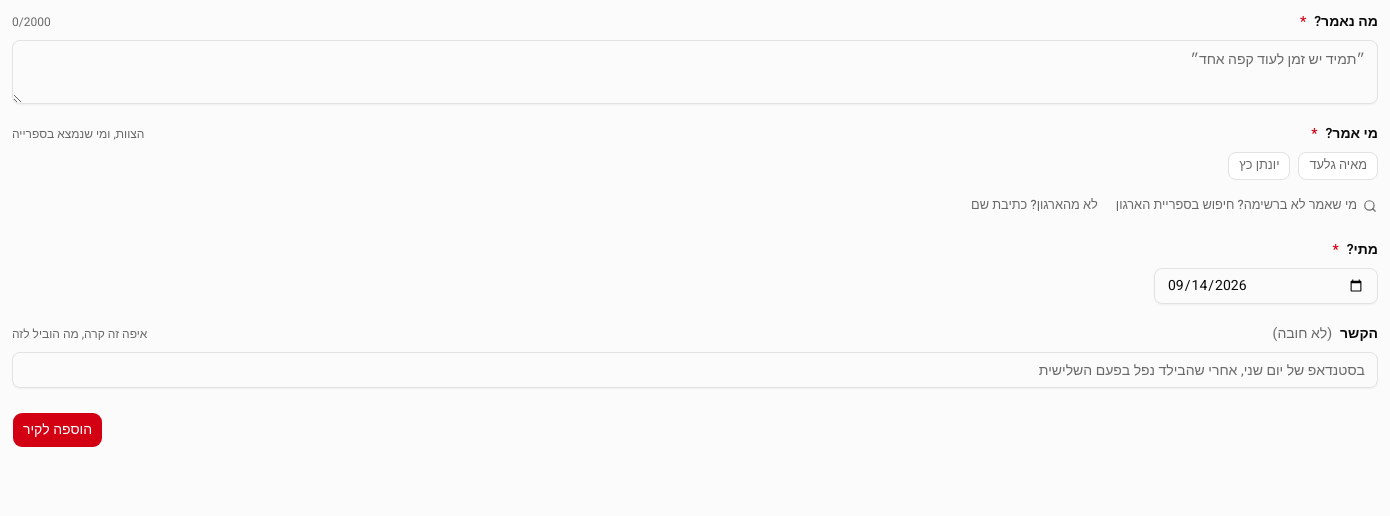
it: QuoteForm — creating › clears a field's error as soon as it is edited
Click the button "הוספה לקיר" at x=58, y=430, box [12,412,103,448]
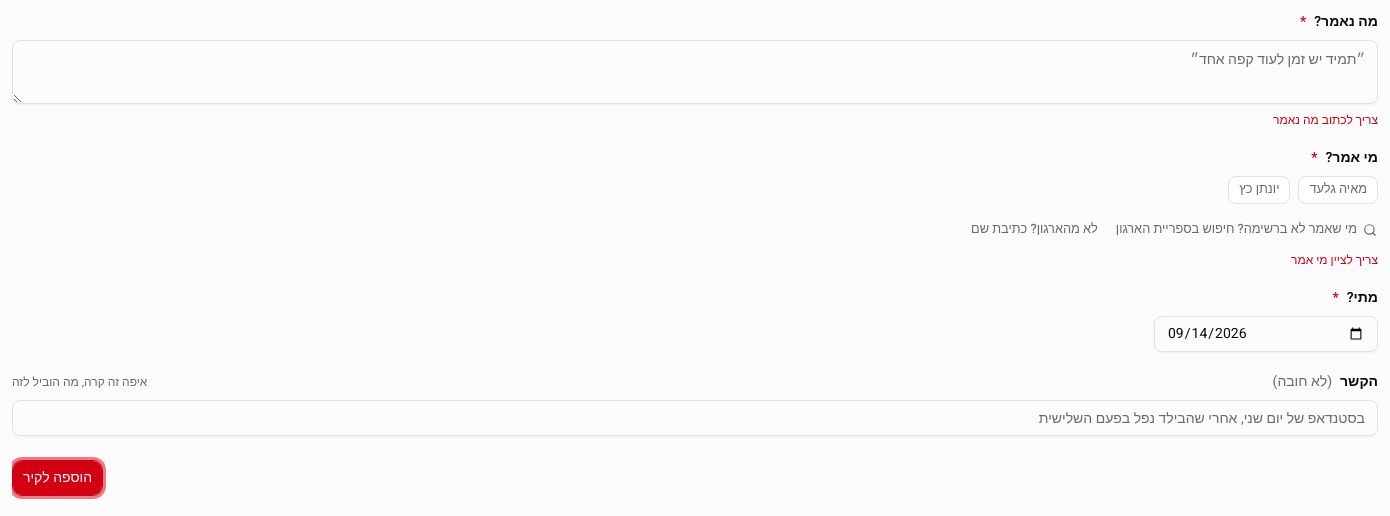
Result: the text "צריך לציין מי אמר" is shown at [1291,251,1378,269]
Click the button "יונתן כץ" at x=1259, y=190, box [1228,176,1290,204]
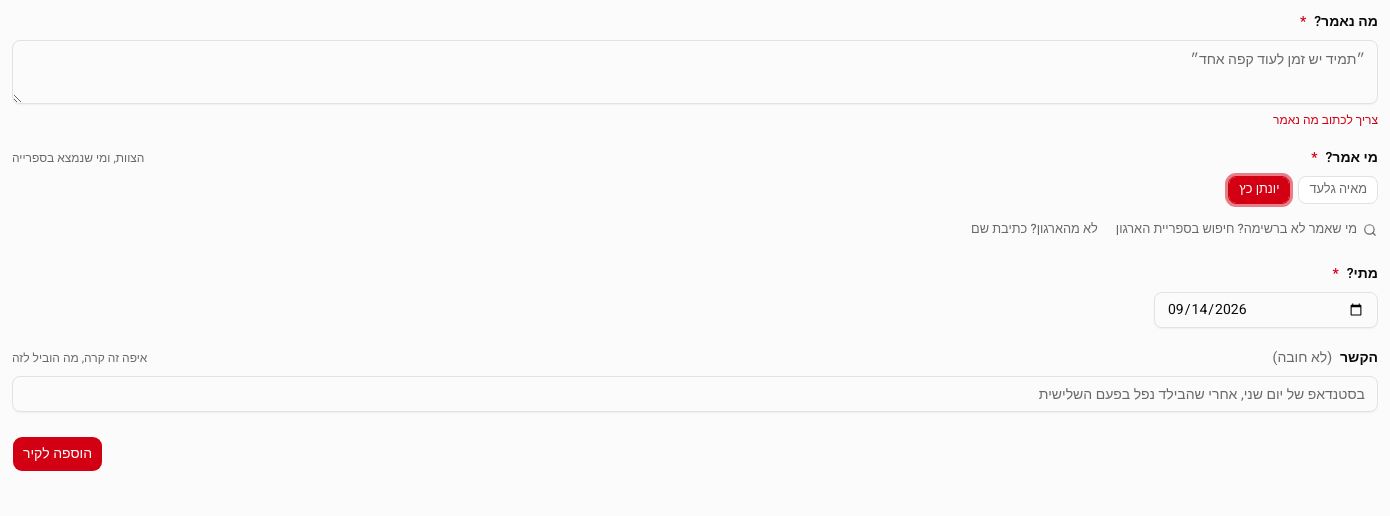
Result: the text "צריך לכתוב מה נאמר" is shown at [1273,111,1378,129]
Result: the text "צריך לציין מי אמר" is gone
